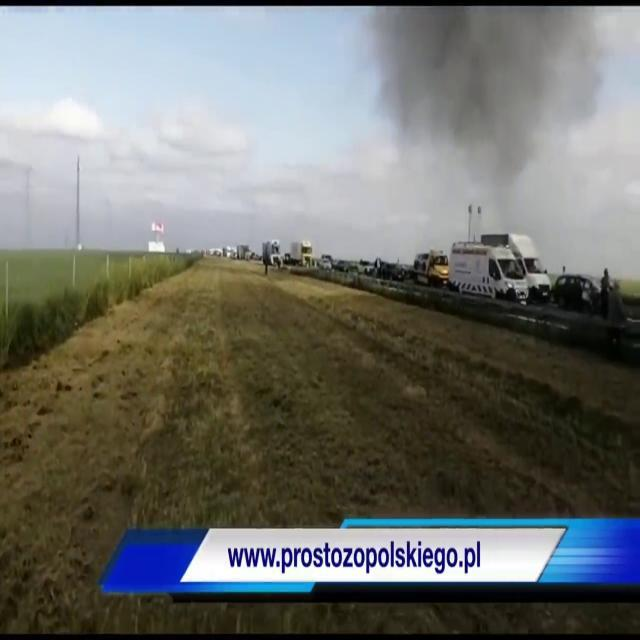Smoke: (376, 2, 594, 248)
